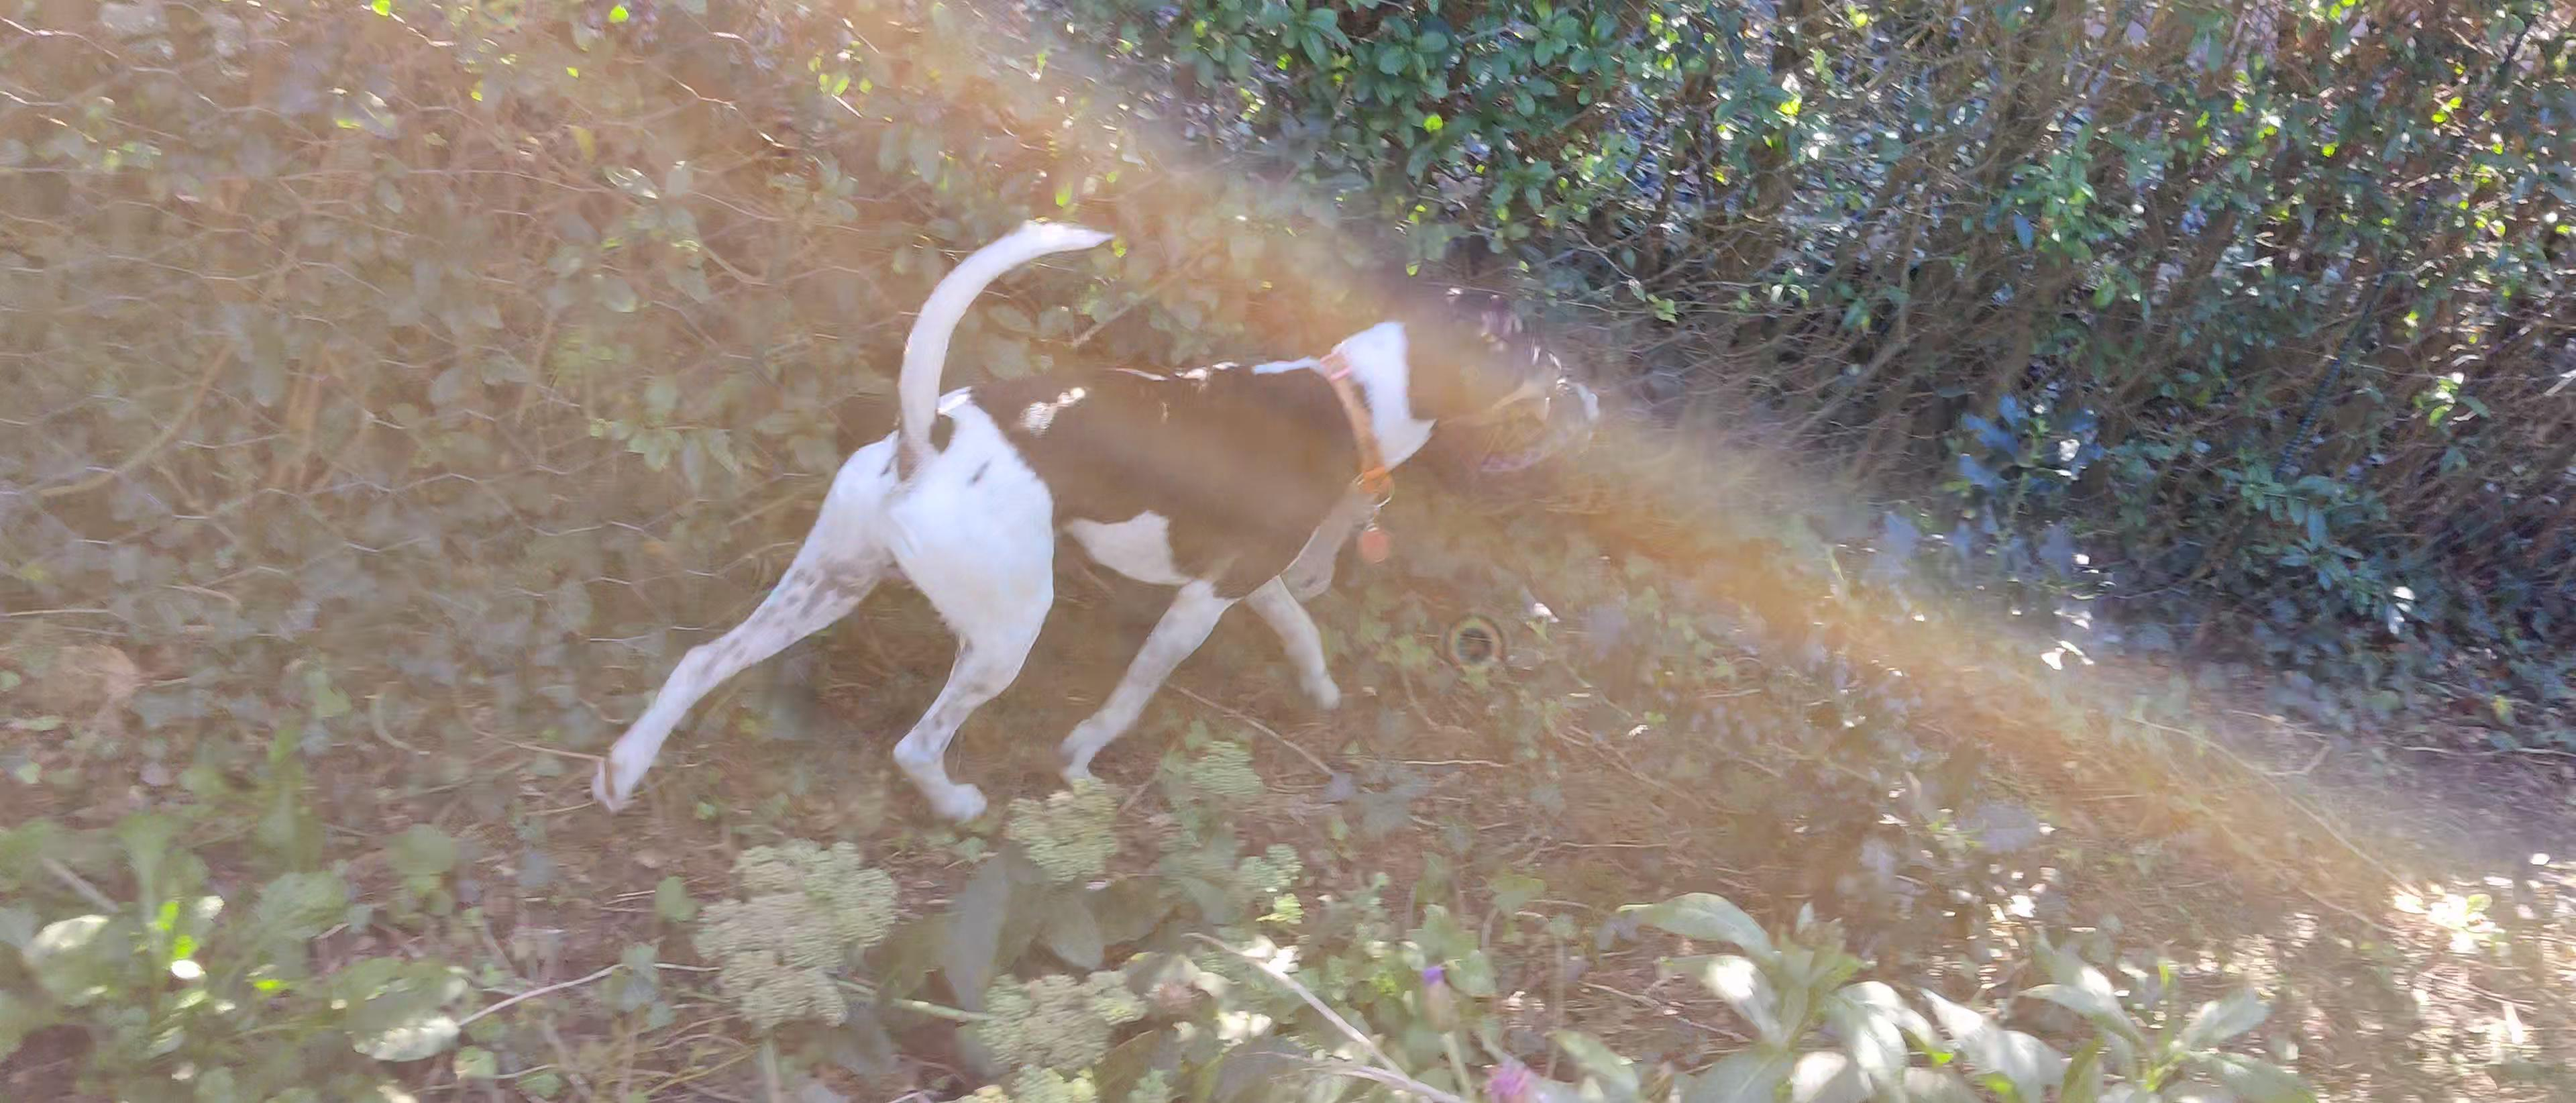Dog: (585, 209, 1569, 835)
